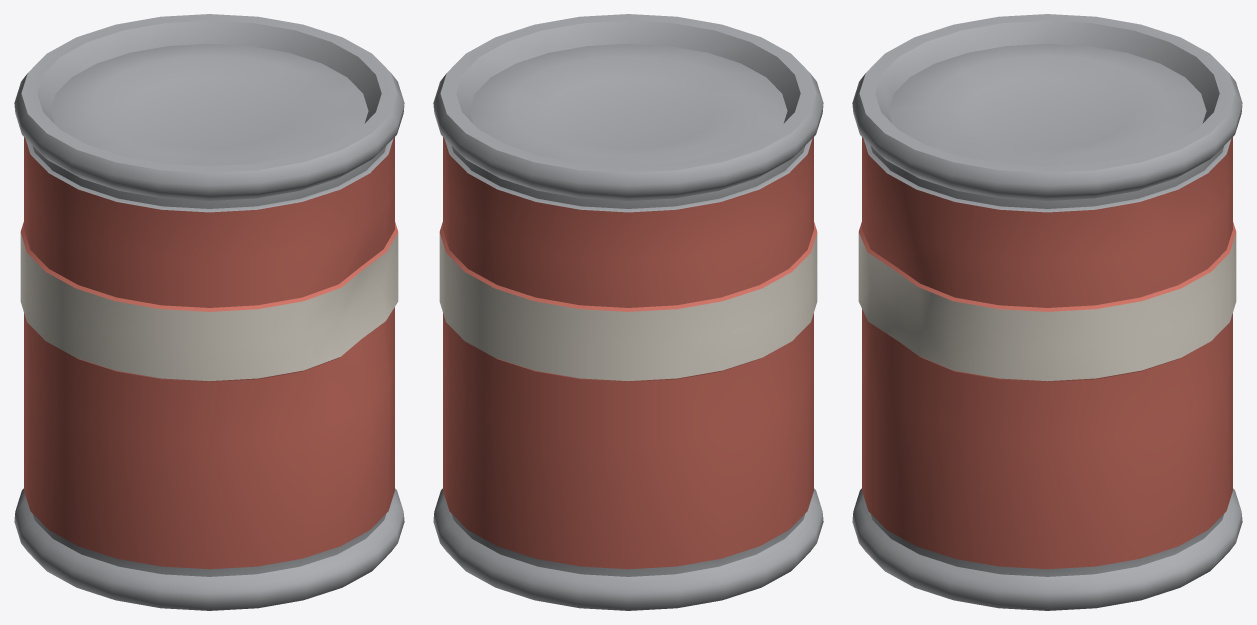
Rendered from food_dog_old.glb.
3 renders of one model, left to right at view 1: azimuth 30°, elevation 25°; view 2: azimuth 150°, elevation 25°; view 3: azimuth 270°, elevation 25°, orthographic.
Visible parts, largest first — view 1: PART; view 2: PART; view 3: PART.
Boxes of the visible parts, <box> form: PART: <box>14,14,404,610</box>; PART: <box>433,14,823,610</box>; PART: <box>852,14,1242,610</box>.
Bounding box in the file's own units: 0.0888 × 0.11 × 0.0888.
